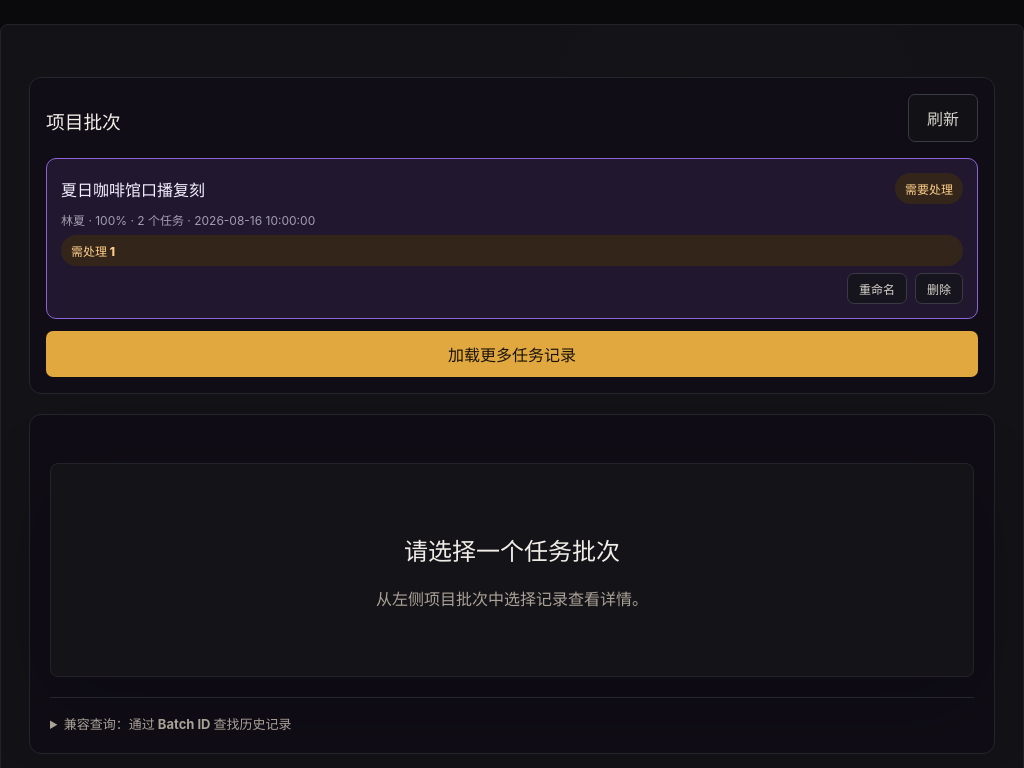
TaskRecordsPanel › appends cursor pages without duplicating an existing batch
Click the button "加载更多任务记录".
click(512, 354)  # box [46,331,978,377]
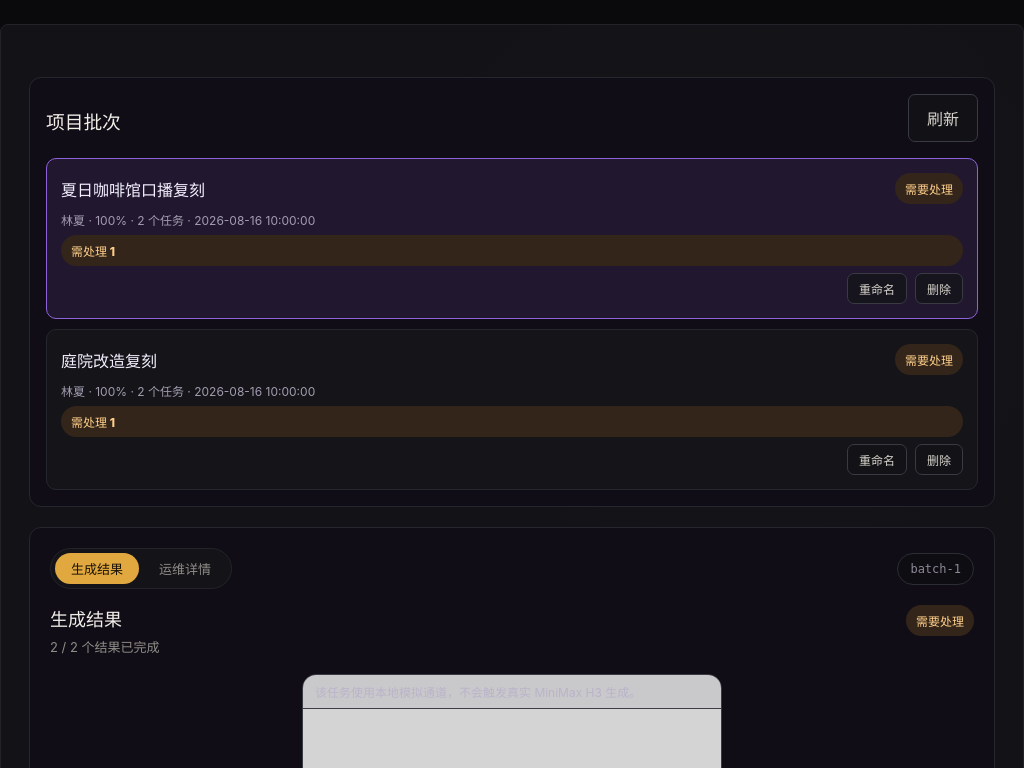
Expected: the number of buttons named "打开批次 batch-1" is 1, [61,173,963,266]
Now the button with aria-label "打开批次 batch-2" is shown, box [61,344,963,437]
Now the button "加载更多任务记录" is gone
